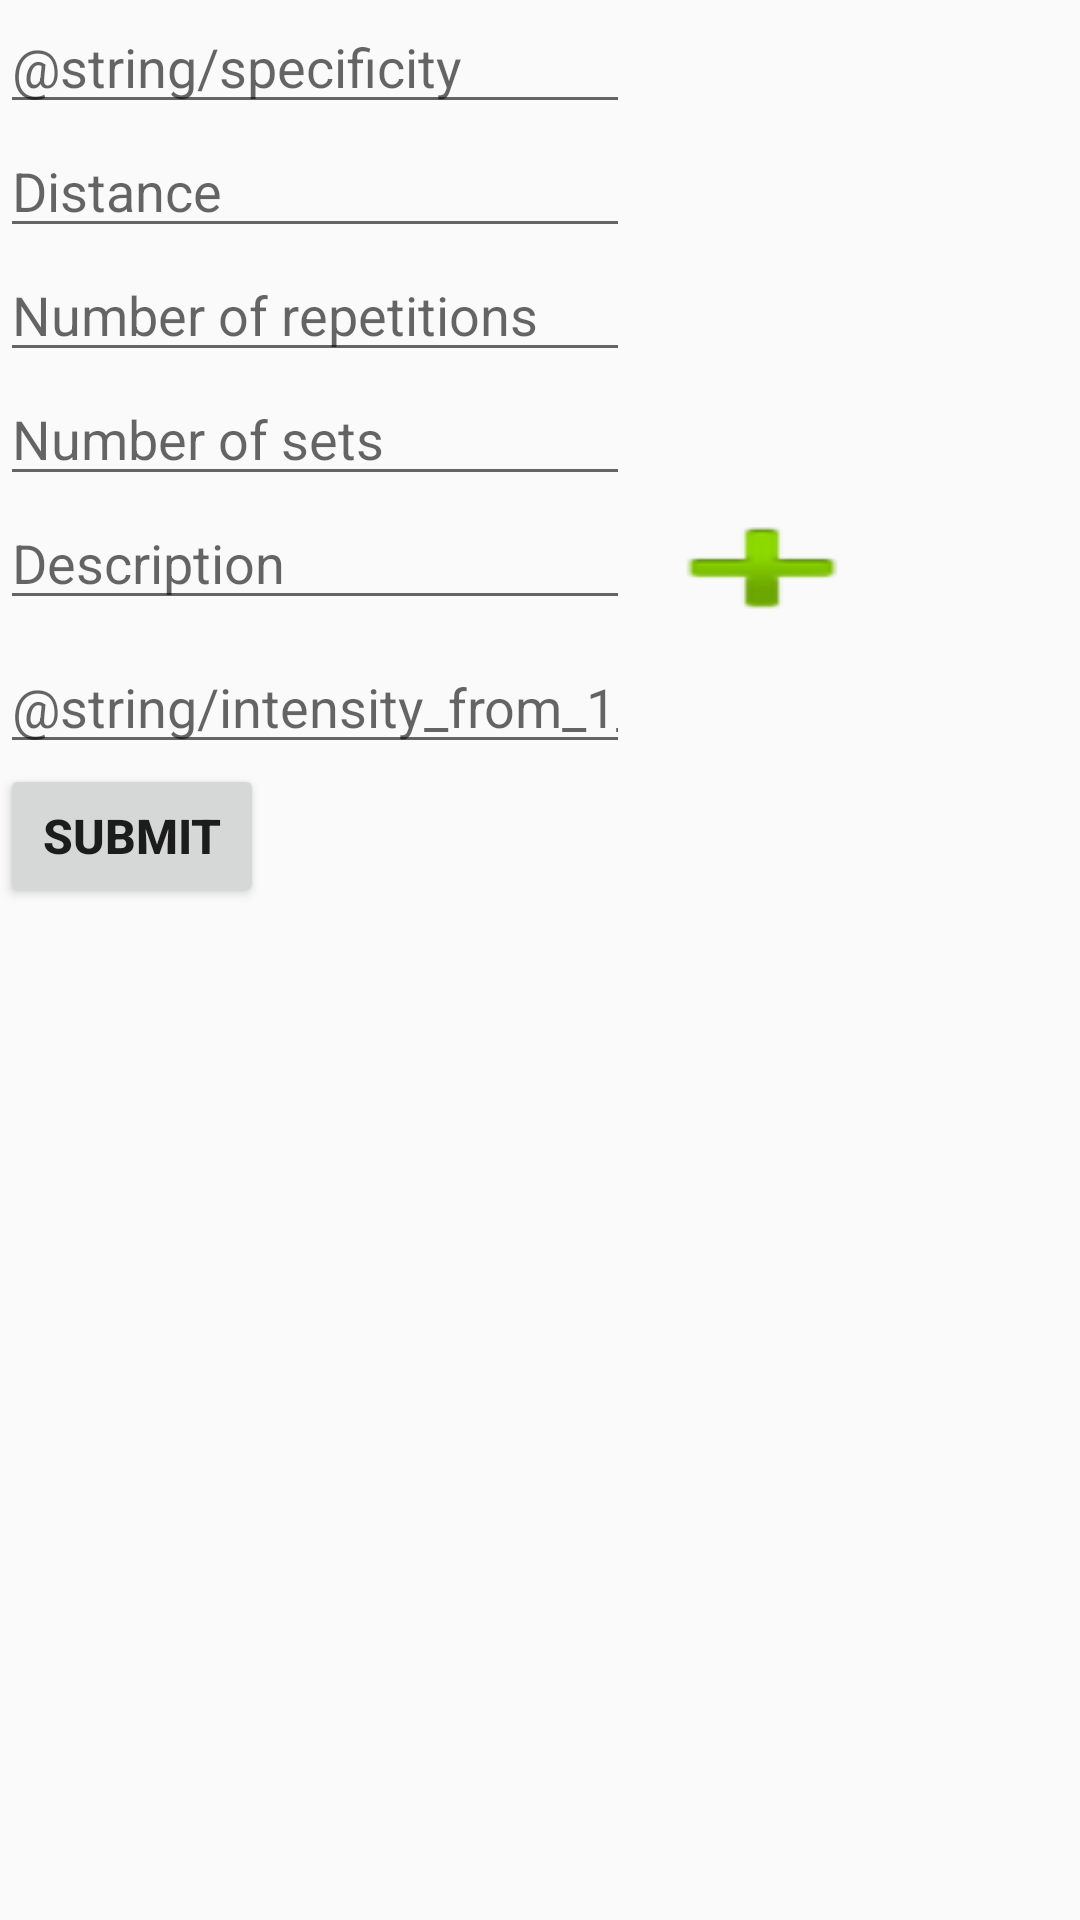

Icons on this 1080×1920 Android screen, each with the point to tap as point (x, y):
add: point (762, 568)
